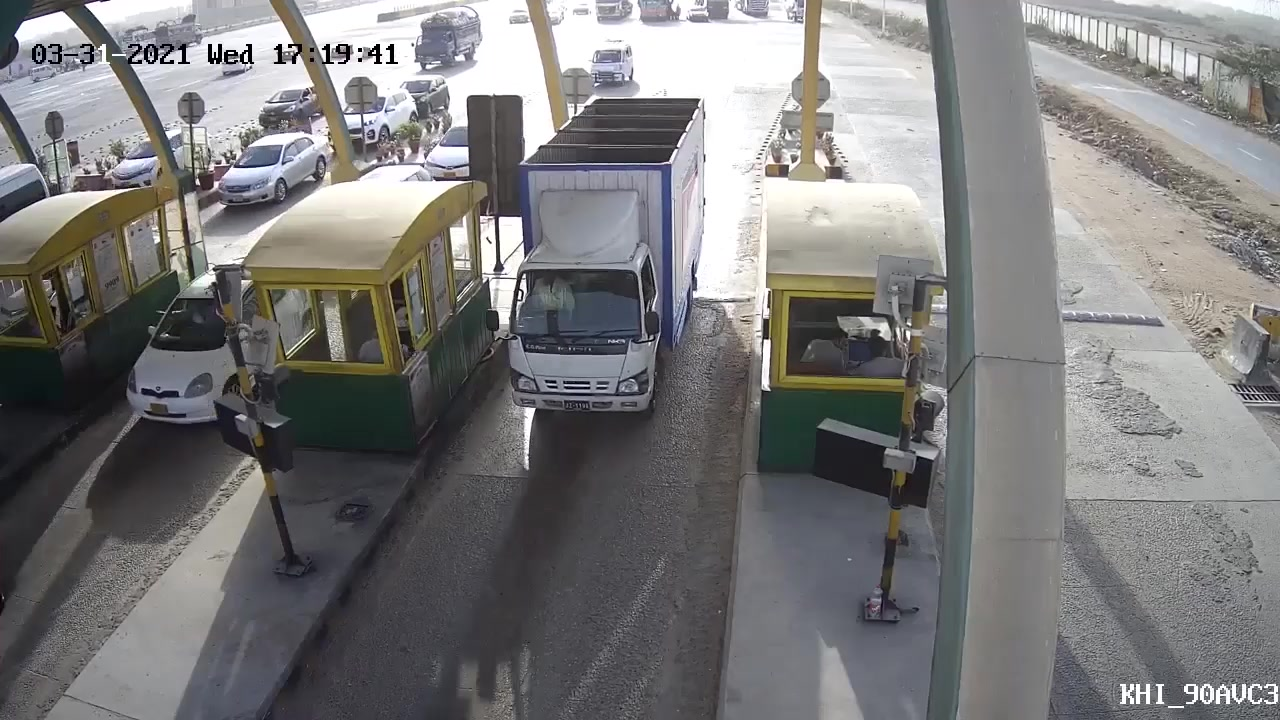F5: (498, 99, 712, 425)
